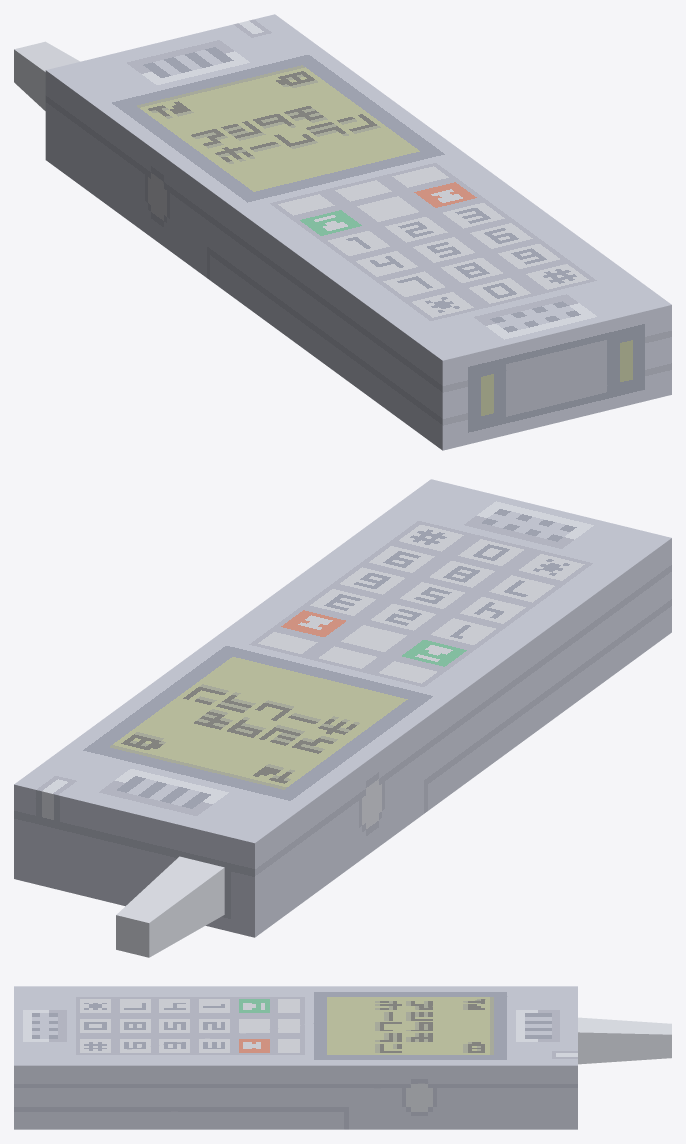
Rendered from 01c7_Cell_Phone.glb.
3 renders of one model, top to bottom at view 1: azimuth 30°, elevation 25°; view 2: azimuth 150°, elevation 25°; view 3: azimuth 270°, elevation 25°, orthographic. The views are drawn at different scales.
Visible parts, largest first — view 1: part_0; view 2: part_0; view 3: part_0.
Part boxes in pixels (x1,y1,x2,y2): part_0: (14, 14, 671, 450); part_0: (14, 479, 671, 957); part_0: (14, 986, 671, 1129).
Bounding box in the file's own units: 0.04 × 0.015 × 0.14.
Materials: 1 (1 with a texture image).
